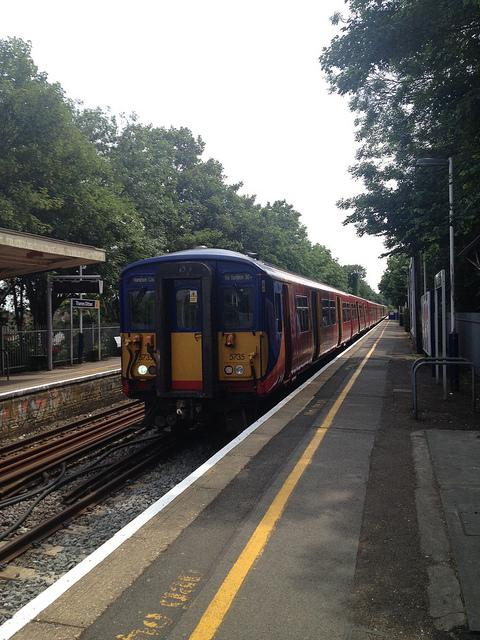Train: (121, 248, 393, 431)
